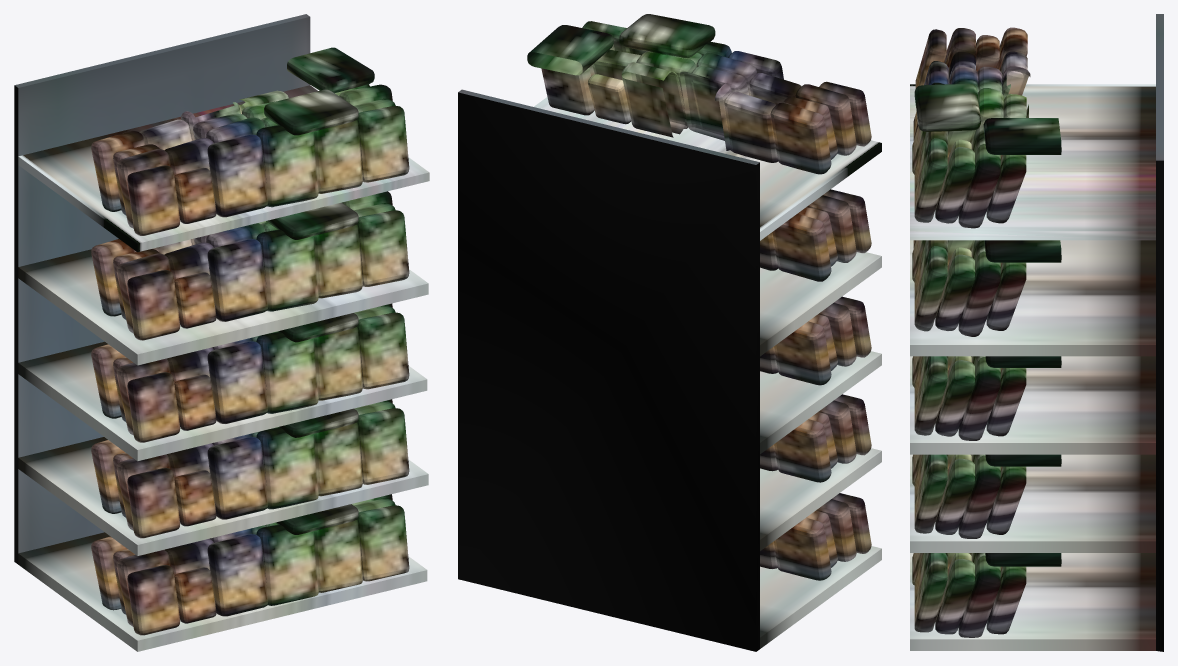
The model's file is Supermarket Chips Shelf1.fbx.
3 renders of one model, left to right at view 1: azimuth 30°, elevation 25°; view 2: azimuth 150°, elevation 25°; view 3: azimuth 270°, elevation 25°, orthographic. The views are drawn at different scales.
Parts seen in each view (by area): view 1: Supermarket Chips Shelf10; view 2: Supermarket Chips Shelf10; view 3: Supermarket Chips Shelf10.
Part boxes in pixels (left/top/right/bottom): Supermarket Chips Shelf10: left=14, top=14, right=429, bottom=651; Supermarket Chips Shelf10: left=458, top=14, right=881, bottom=651; Supermarket Chips Shelf10: left=910, top=14, right=1163, bottom=651.
Size of the model in its own units: 0.7873 by 1.26 by 0.5749.
